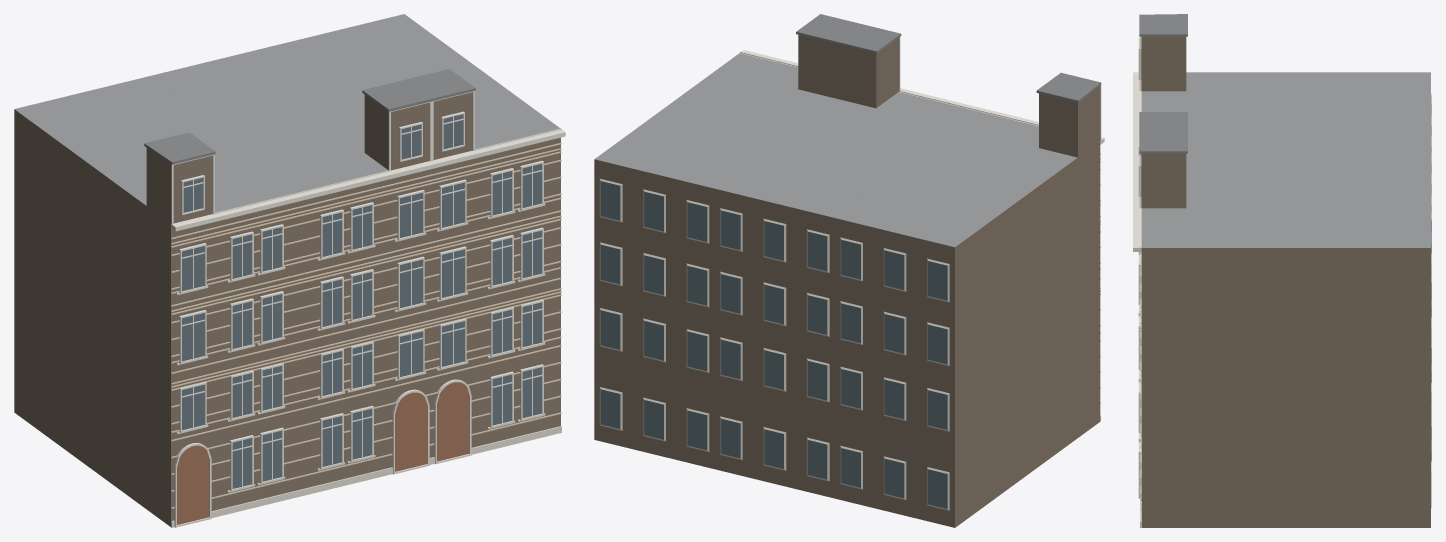
The model's file is chunk-face-sarphati-195-213-r2.glb.
3 renders of one model, left to right at view 1: azimuth 30°, elevation 25°; view 2: azimuth 150°, elevation 25°; view 3: azimuth 270°, elevation 25°, orthographic. The views are drawn at different scales.
Parts seen in each view (by area): view 1: face-sarphati-195-213-r2; view 2: face-sarphati-195-213-r2; view 3: face-sarphati-195-213-r2.
Boxes of the visible parts, bbox=[...] form: face-sarphati-195-213-r2: bbox=[14, 14, 565, 527]; face-sarphati-195-213-r2: bbox=[594, 14, 1104, 527]; face-sarphati-195-213-r2: bbox=[1133, 14, 1431, 527].
Bounding box in the file's own units: 19.47 × 17.38 × 13.95.
